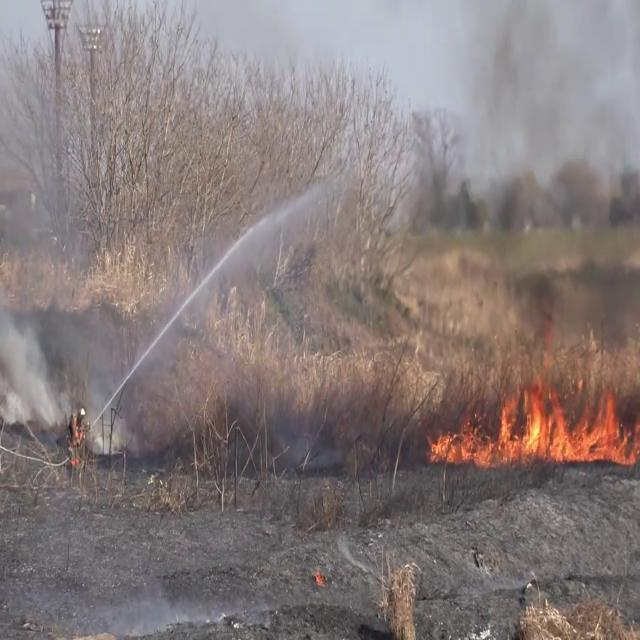Fire: (424, 374, 640, 470)
Smoke: (379, 0, 639, 292), (0, 257, 66, 437)
